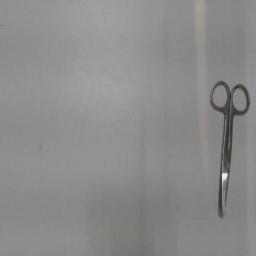Dressing Scissors: (207, 73, 253, 227)
